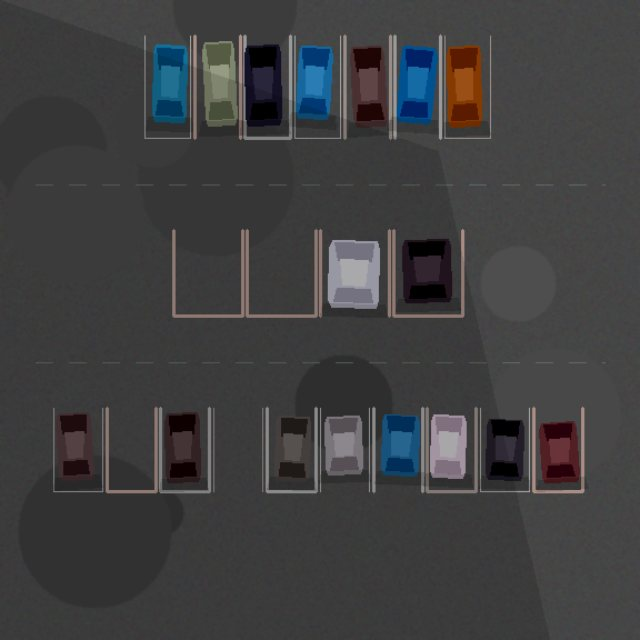space-empty: (173, 230, 242, 316), (247, 230, 316, 316), (107, 408, 156, 491), (213, 408, 262, 491)
space-occupied: (320, 230, 389, 316), (393, 230, 462, 316), (144, 36, 190, 138), (194, 36, 240, 138), (244, 36, 290, 138), (294, 36, 340, 138), (344, 36, 390, 138), (394, 36, 440, 138), (444, 36, 490, 138), (53, 408, 102, 491), (160, 408, 209, 491), (267, 408, 316, 491), (320, 408, 369, 491), (373, 408, 422, 491), (427, 408, 476, 491), (480, 408, 529, 491), (533, 408, 582, 491)
